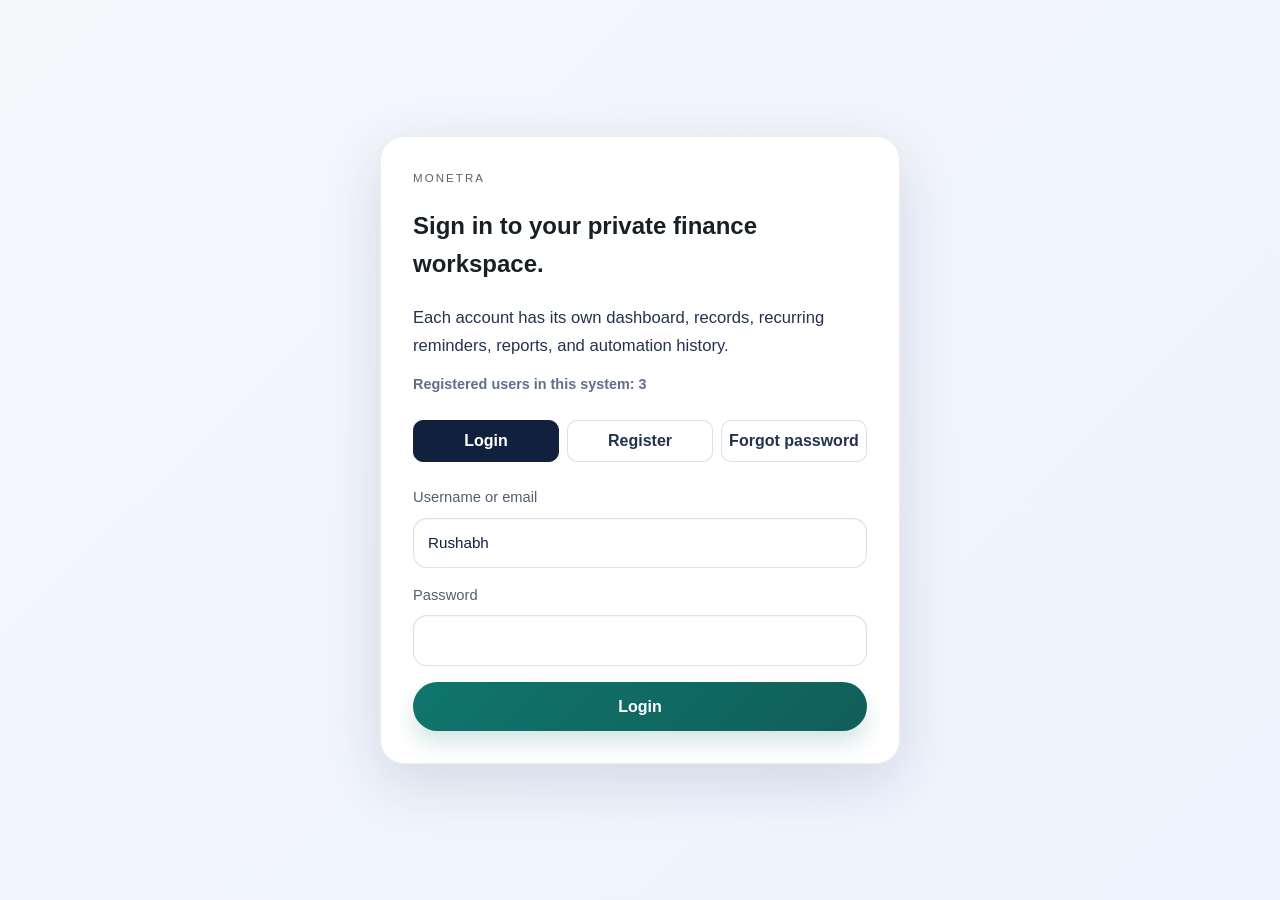
AuthenticatedApp › blocks mismatched registration passwords and surfaces register errors
Click the button "Register" at [640, 441], box [567,420,713,462]
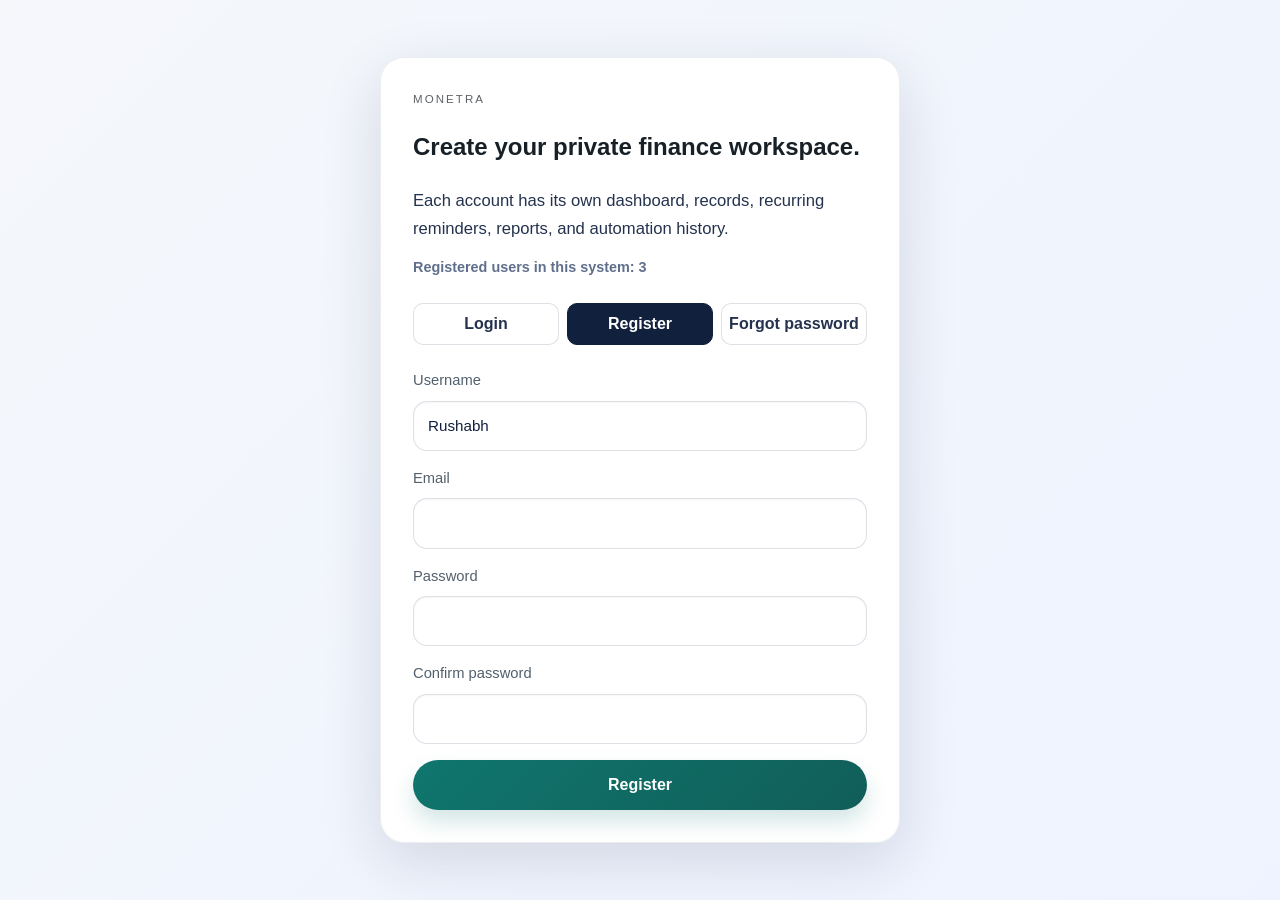
Replace the text in the field labelled "Username" with "NewUser" at [640, 426], box [413,400,867,451]
Type "new@example.com" into the field labelled "Email" at [640, 523], box [413,498,867,549]
Type "password123" into the password field labelled "Password" at [640, 621], box [413,596,867,646]
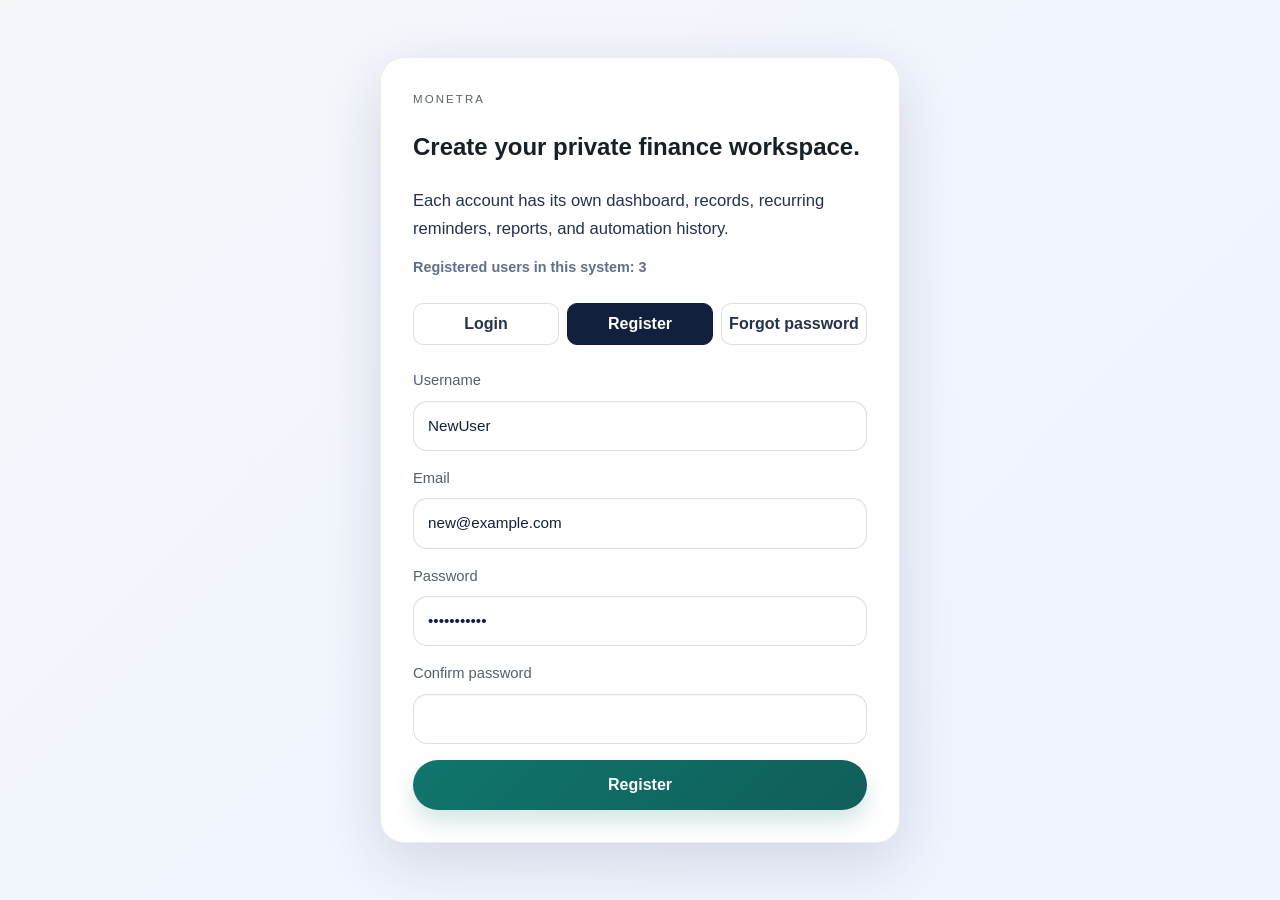
Type "different123" into the password field labelled "Confirm password" at [640, 719], box [413,694,867,744]
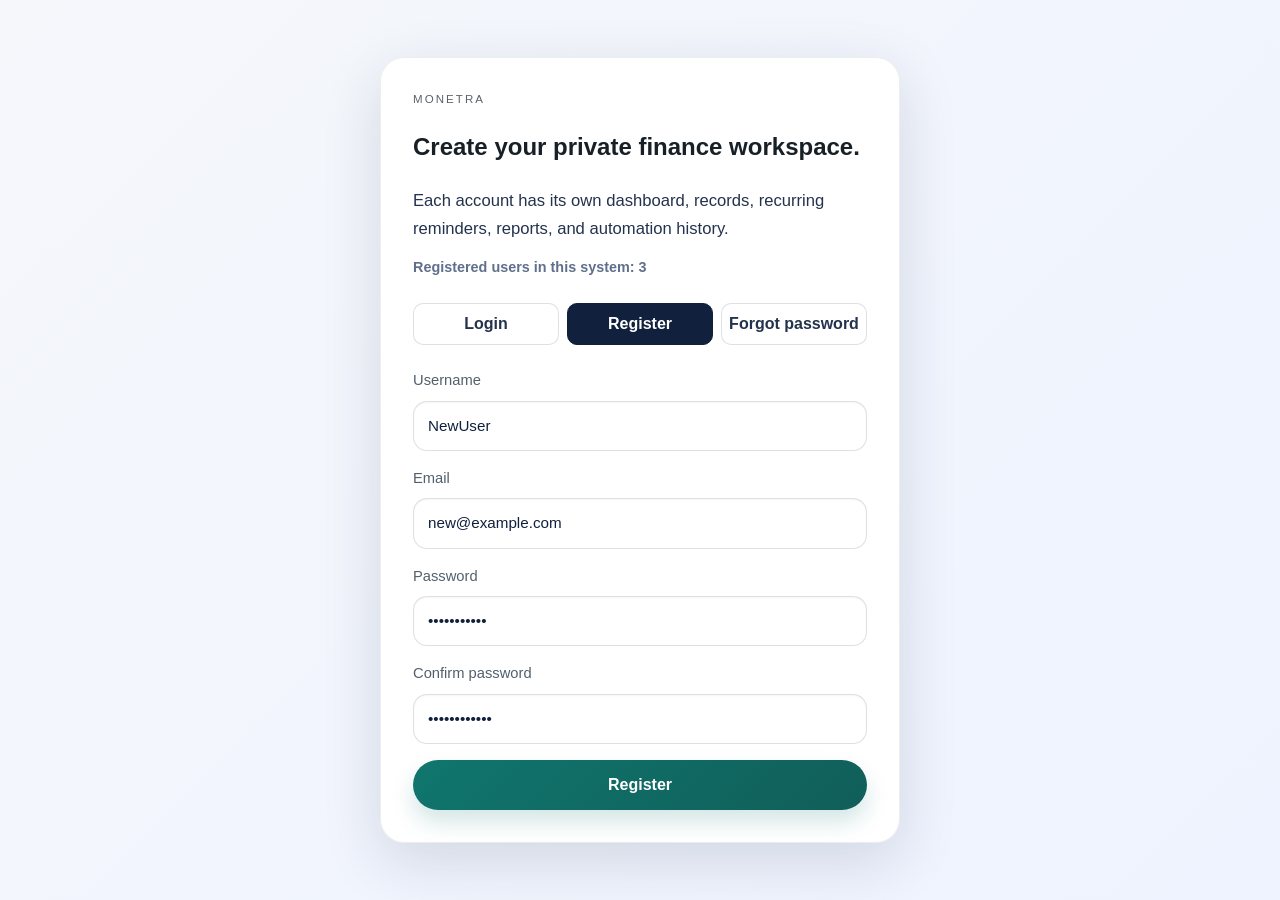
Click the button "Register" below "Confirm password" at [640, 785], box [413,760,867,810]
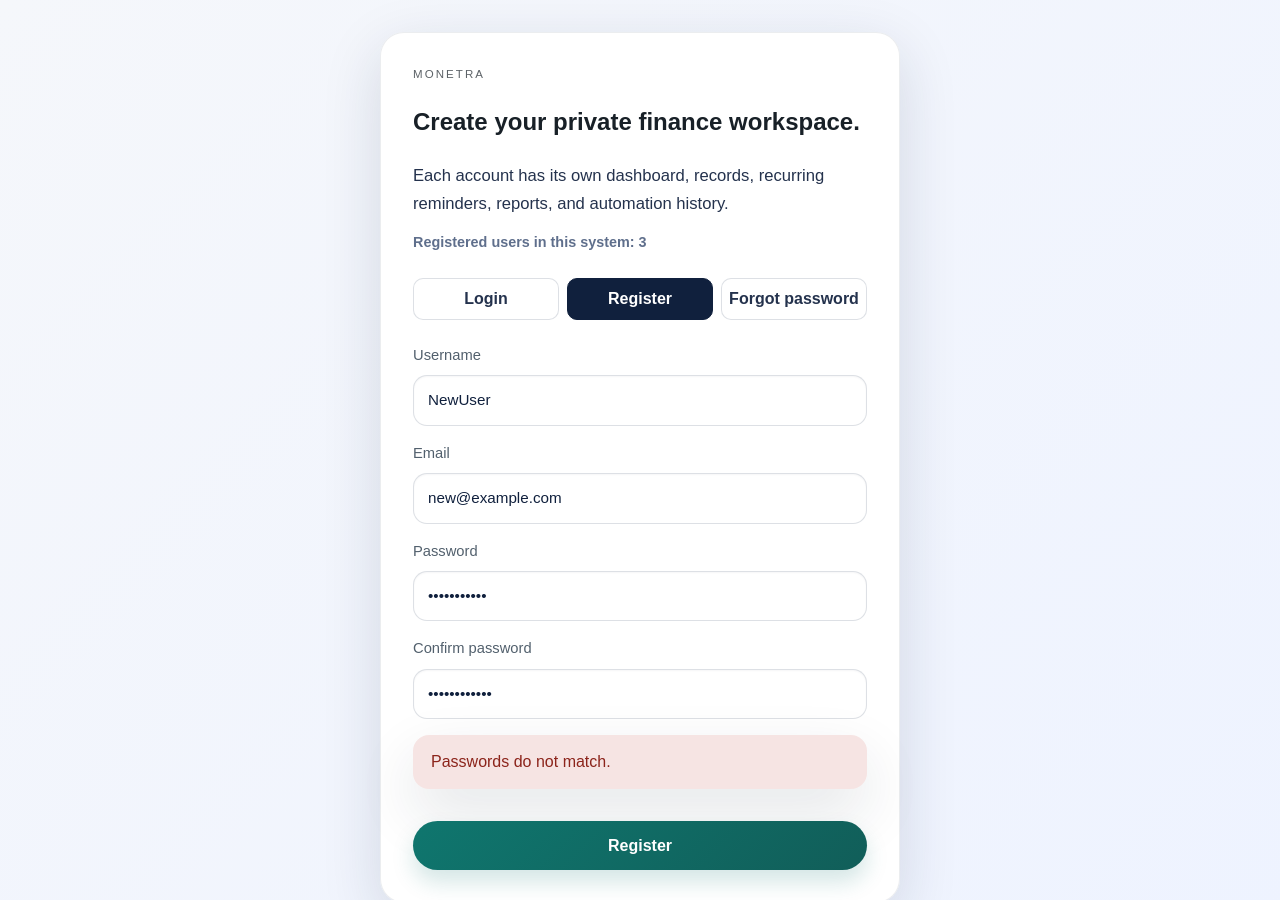
Now the text "Passwords do not match." is shown, box [413,735,867,789]
Type "password123" into the password field labelled "Confirm password" at [640, 694], box [413,669,867,719]
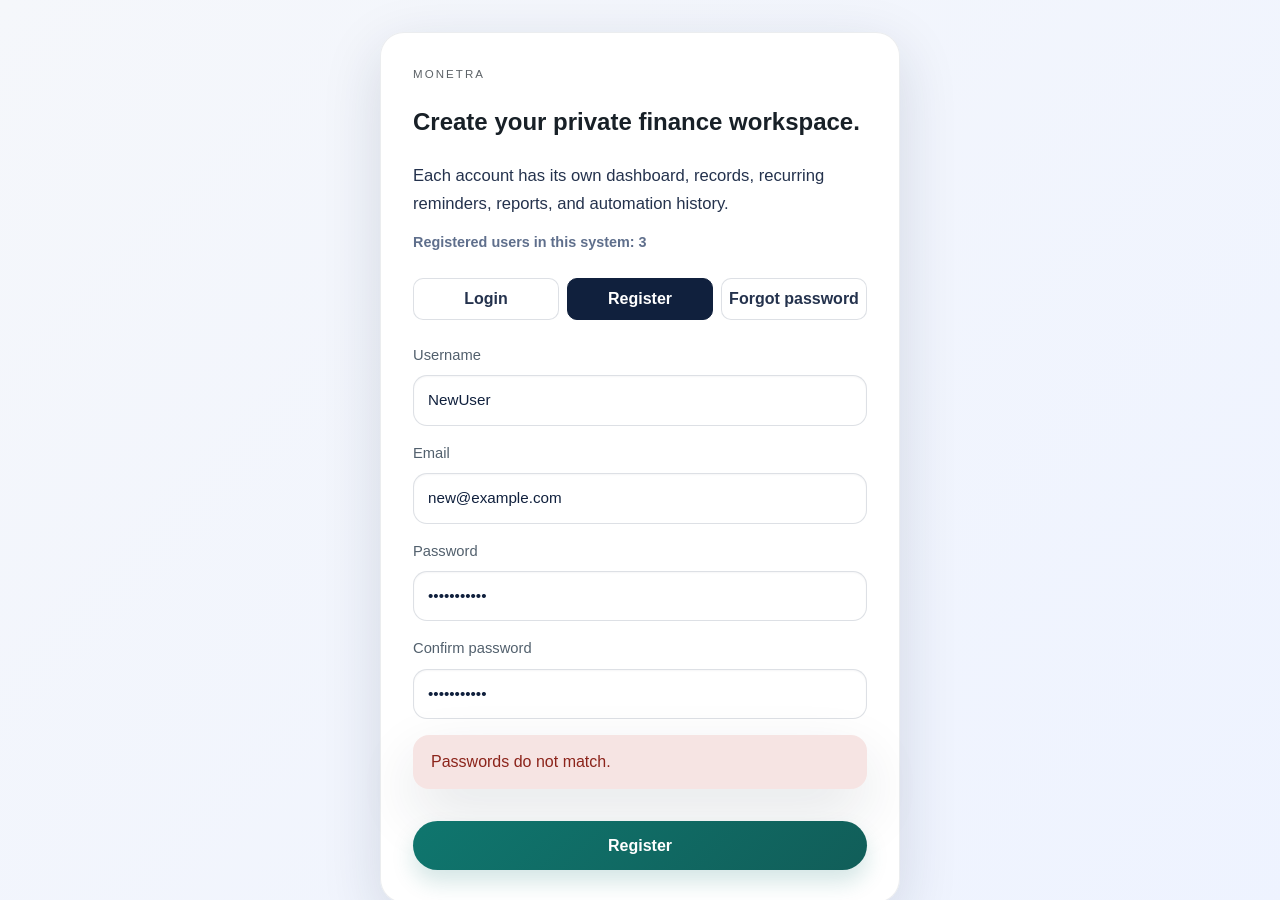
Click the button "Register" below "Passwords do not match." at [640, 846], box [413,821,867,870]
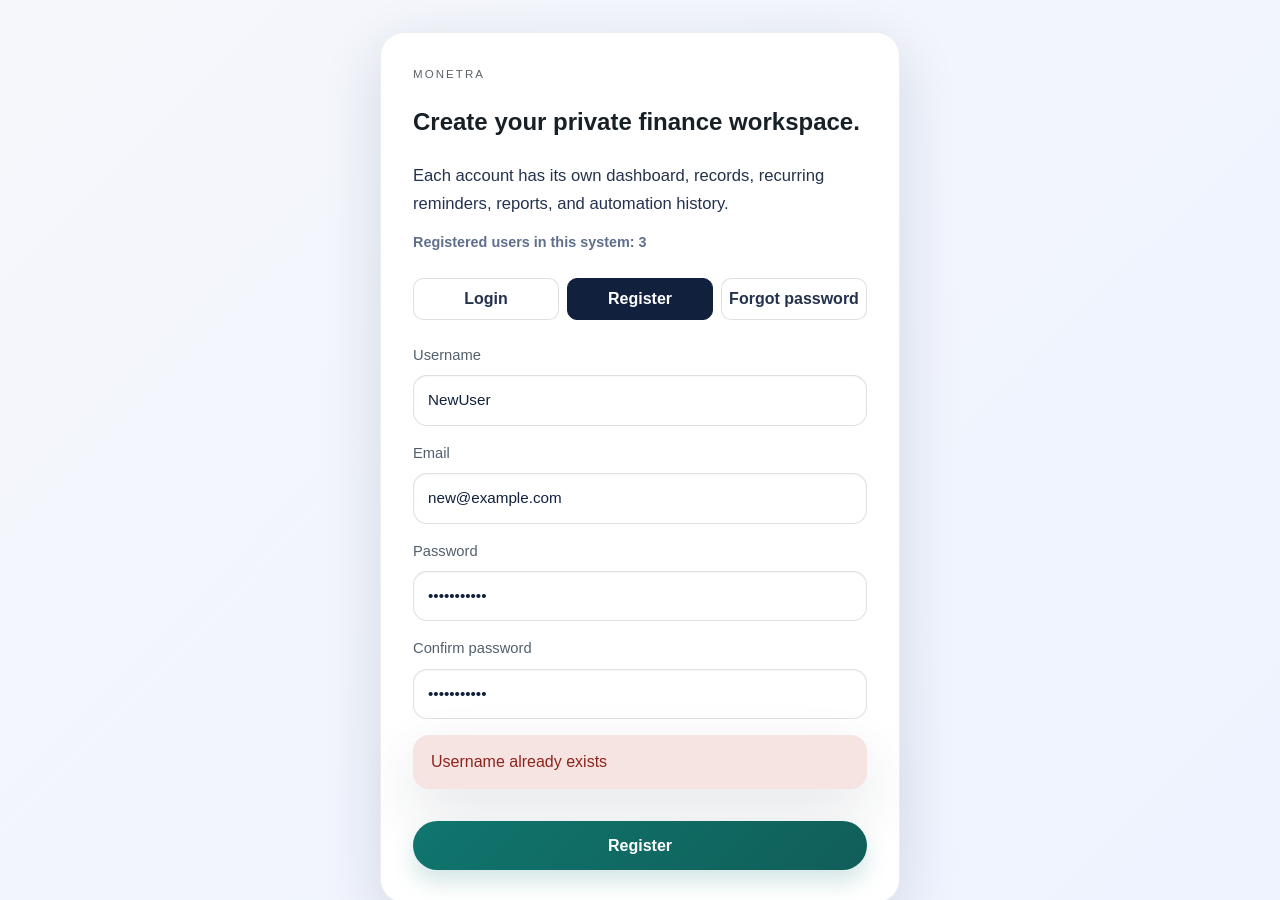
Now the text "Username already exists" is shown, box [413,735,867,789]
